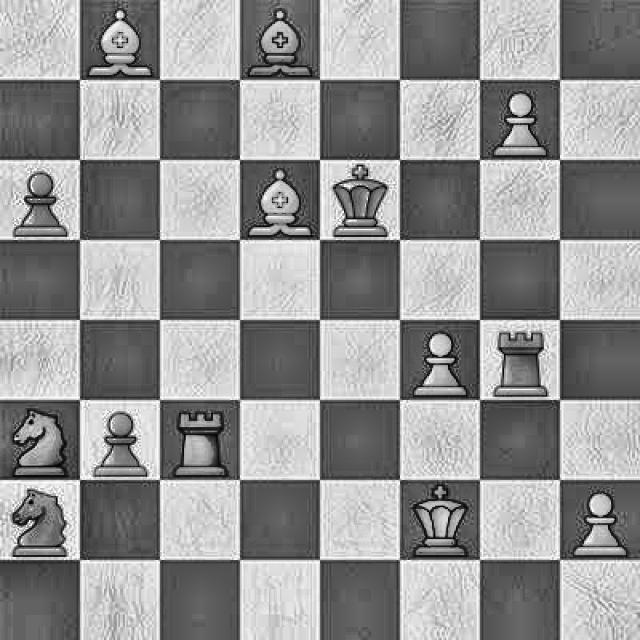Black Knight: (5, 396, 76, 479)
black bishop: (243, 6, 314, 80)
black king: (404, 481, 477, 559)
black rook: (167, 395, 232, 482)
white bishop: (84, 0, 155, 80), (246, 162, 318, 238)
white king: (330, 165, 397, 244)
white pawn: (1, 158, 76, 242), (408, 321, 476, 403), (488, 80, 556, 158), (89, 401, 150, 479), (575, 490, 631, 561)
white rook: (491, 324, 556, 398)
whiteknight: (8, 480, 72, 561)
